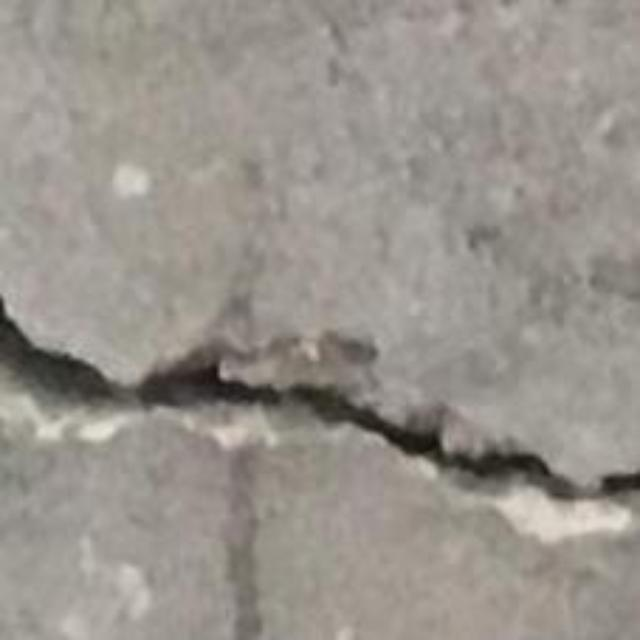crack: (0, 299, 639, 538)
